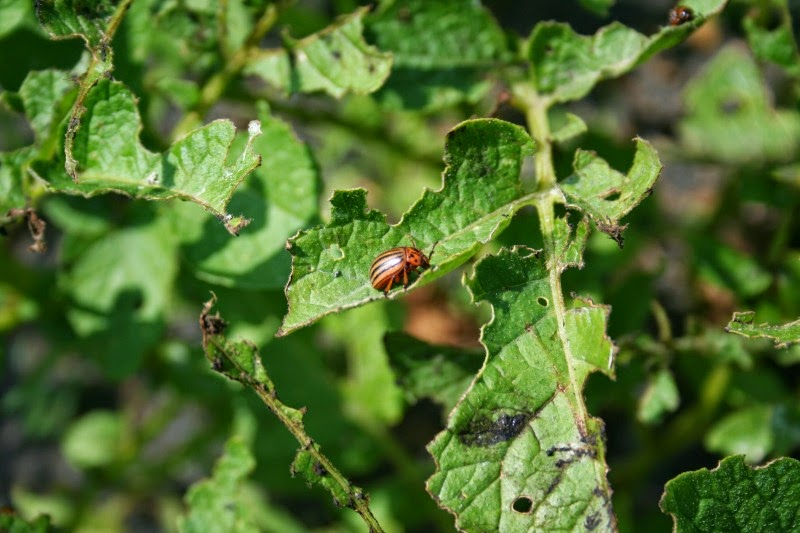hrosc: (365, 243, 436, 296)
